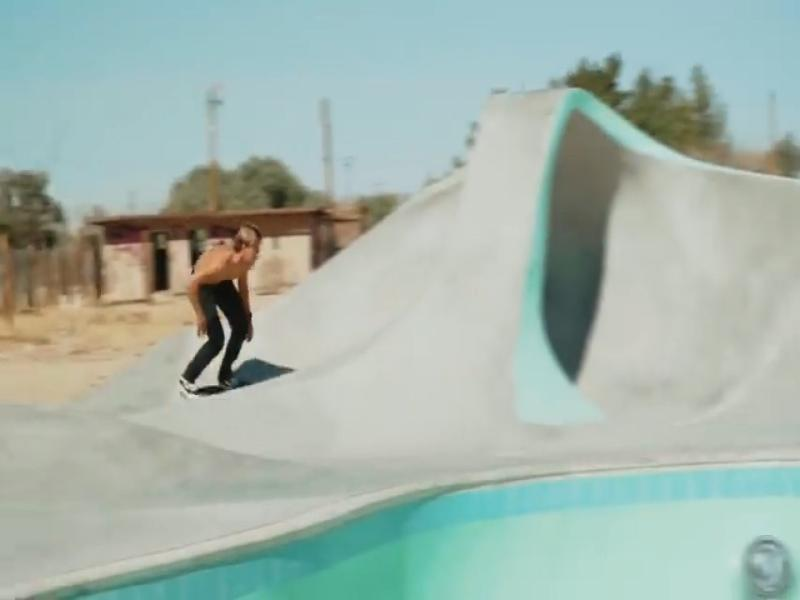person: (180, 223, 261, 394)
